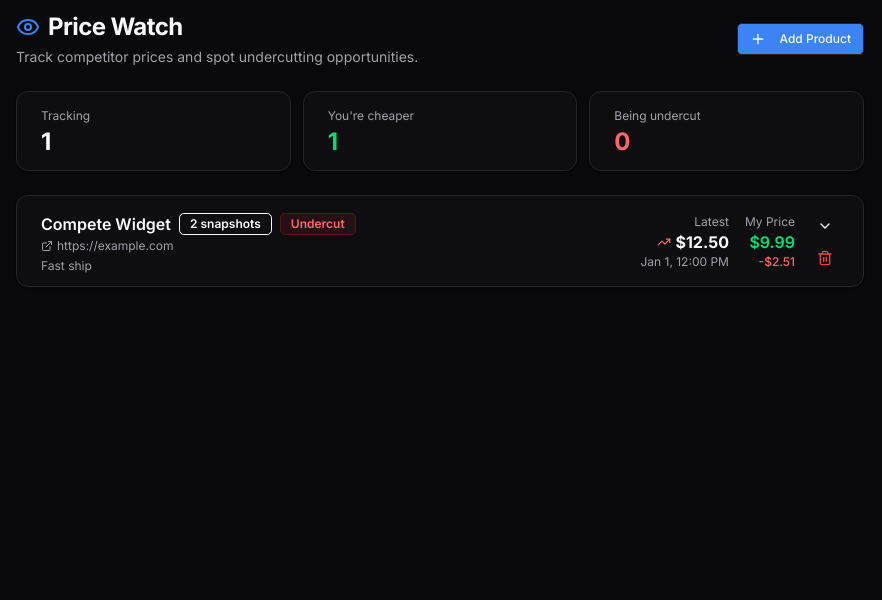
Price Watch displays add form when button clicked
Click the button "Add Product". click: click(800, 39)
box: [736, 23, 864, 55]
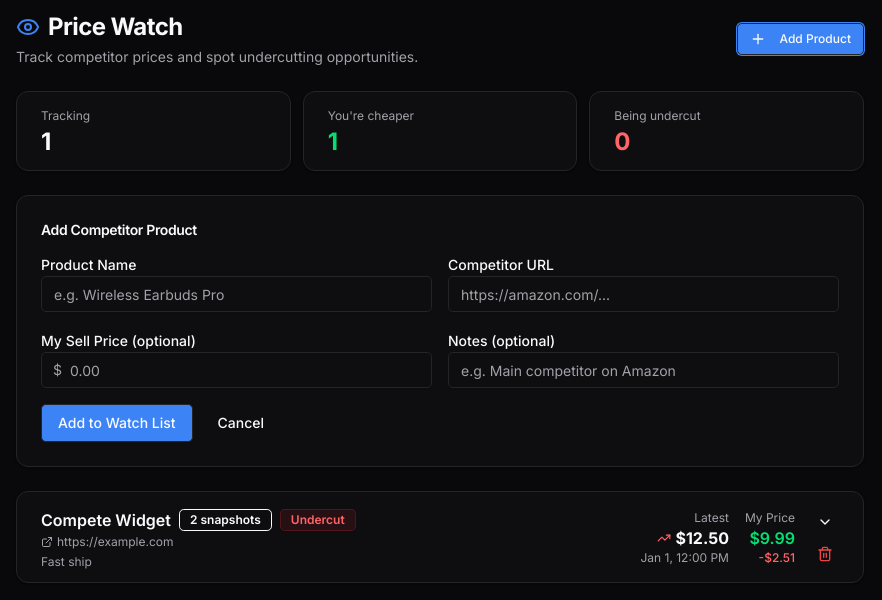
expect the text "Add Competitor Product" is shown: met, box [41, 221, 197, 238]
